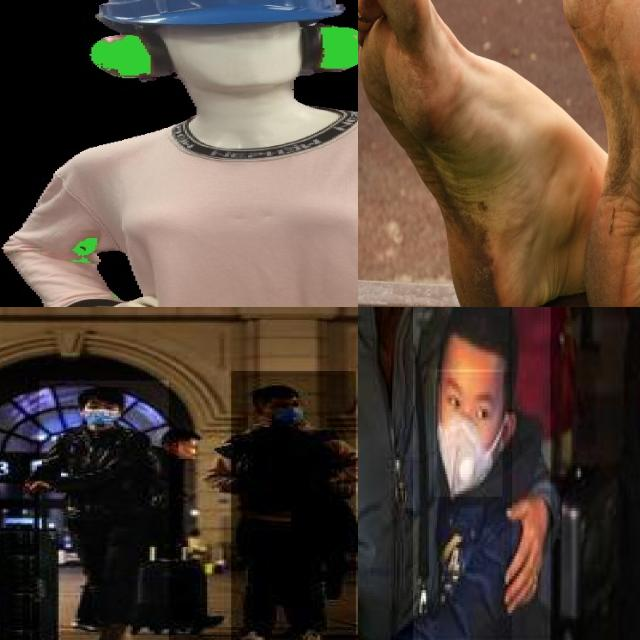Barefoots: (358, 0, 540, 307), (562, 0, 640, 307)
Ear-protection: (28, 15, 358, 81)
No_Glasses: (439, 370, 496, 437)
face_mask: (433, 369, 502, 497), (262, 396, 303, 424), (82, 398, 119, 426)
face_nomask: (178, 442, 198, 461)
hand_noglove: (499, 470, 553, 611)
head_helmet: (44, 0, 348, 31)
head_nohelmet: (442, 307, 509, 372), (238, 382, 308, 403), (78, 387, 128, 403)
person: (358, 307, 512, 640), (413, 307, 552, 640), (39, 380, 171, 640), (231, 371, 358, 640)
shoes: (222, 618, 280, 640), (87, 618, 137, 640), (291, 628, 331, 640)
